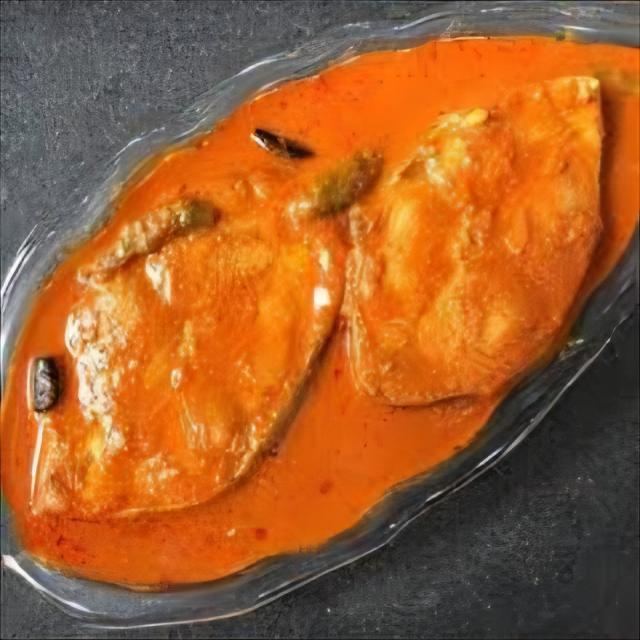FISH CURRY: (14, 20, 615, 598)
